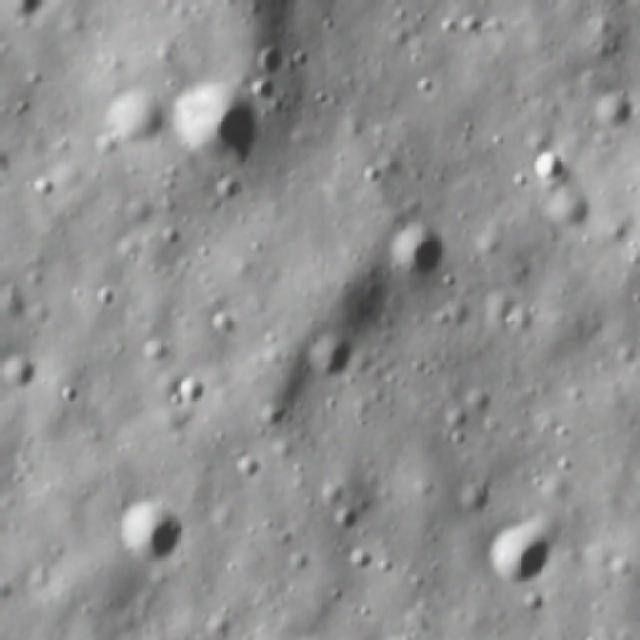crater: (470, 517, 558, 597), (172, 88, 260, 168), (118, 497, 191, 565), (380, 222, 451, 287), (100, 85, 160, 153), (530, 175, 587, 243), (170, 363, 228, 412), (308, 331, 359, 384), (251, 42, 287, 78), (331, 495, 366, 531), (530, 148, 562, 184), (459, 480, 496, 511), (246, 77, 282, 105)
